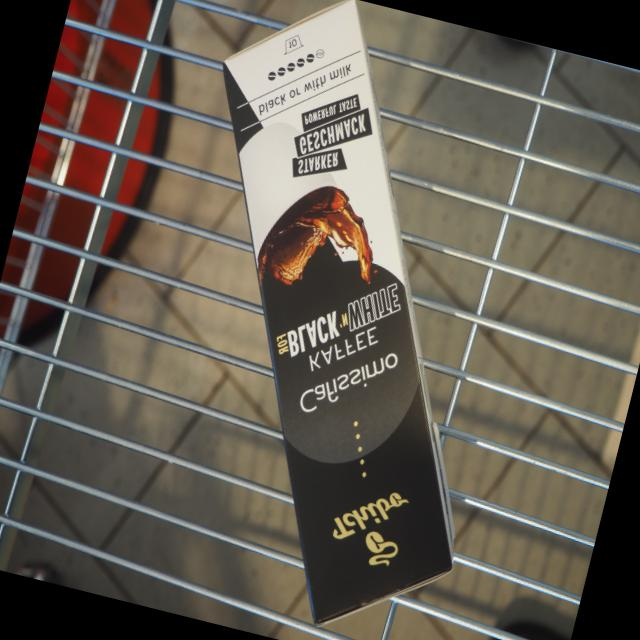Simo Kaffee BW: (218, 0, 455, 636)
